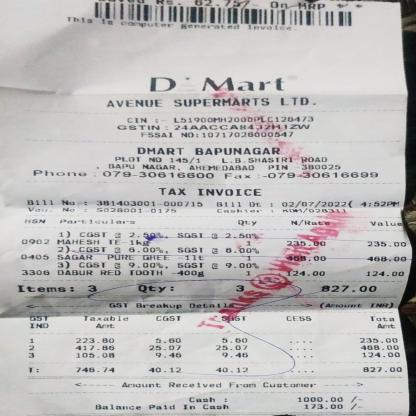receipts: (11, 1, 391, 416)
